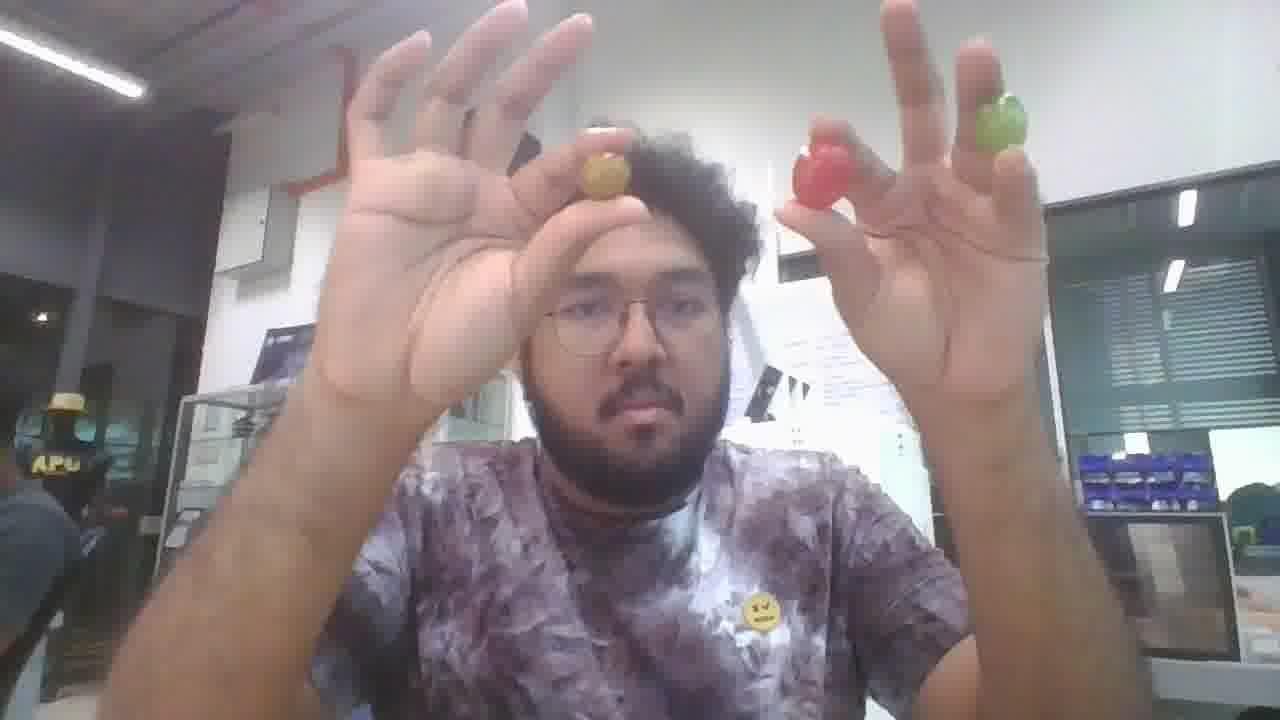green_cherry_tomato: (976, 93, 1026, 152)
red_cherry_tomato: (792, 136, 853, 210)
yellow_cherry_tomato: (580, 153, 630, 200)
